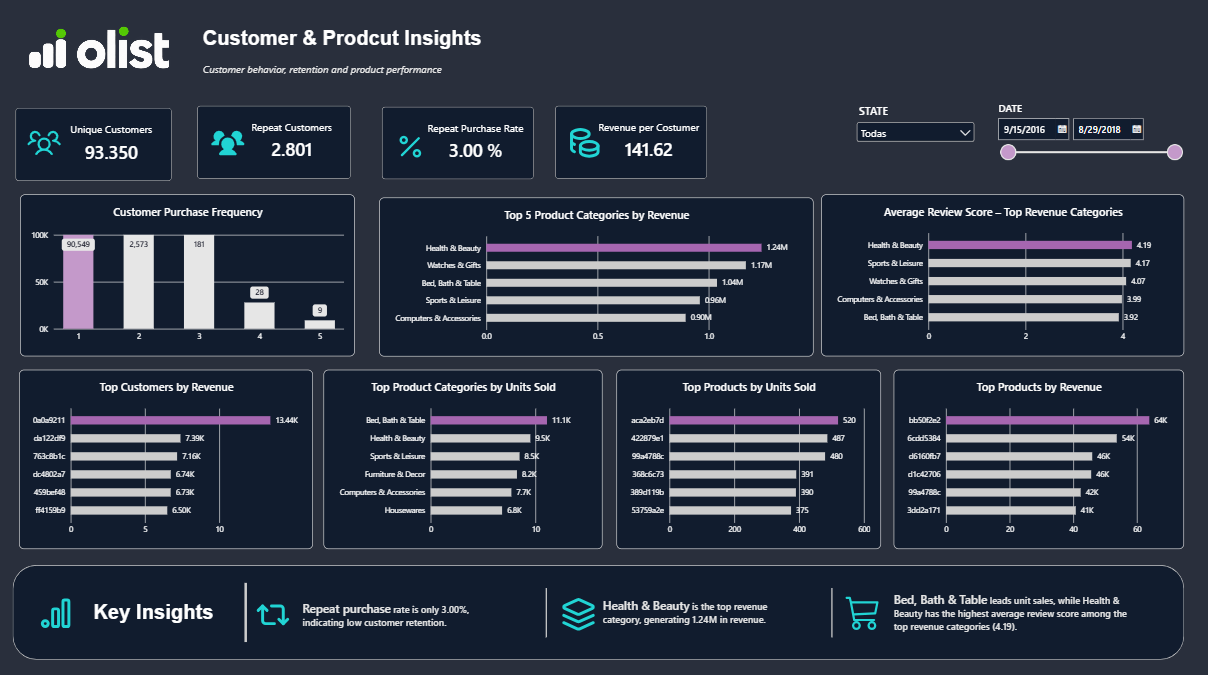

Layout of this report page (visuals, bound fields, positions):
{"tool":"powerbi","page":{"name":"Products Insights ","canvas":[1920,1080],"ordinal":1},"visuals":[{"type":"cardVisual","fields":{"Data":["vw_powerbi_orders.Repeat Customers Display"]},"box":[311,166.8,253.1,125.8],"z":0,"group":"g2"},{"type":"cardVisual","fields":{"Data":["vw_powerbi_orders.Average Revenue per Customer"]},"box":[880.8,166.8,250.2,125.8],"z":0,"group":"g4"},{"type":"cardVisual","fields":{"Data":["vw_powerbi_orders.Repeat Purchase Rate"]},"box":[605.2,168.5,250.2,124.4],"z":0,"group":"g3"},{"type":"cardVisual","fields":{"Data":["vw_powerbi_orders.Unique Customers Display"]},"box":[24,169.7,257.3,125.8],"z":0,"group":"g1"},{"type":"shape","box":[23.5,900.7,1859.3,150.4],"z":0},{"type":"cardVisual","fields":{"Data":["vw_powerbi_orders.Total Orders Display"]},"box":[1005.2,330.8,175.4,126.9],"z":1000},{"type":"textbox","box":[325.2,46.7,680,140],"z":2000},{"type":"slicer","fields":{"Values":["vw_powerbi_orders.order_purchase_timestamp"]},"box":[1579.2,162.6,304,148.5],"z":3000},{"type":"slicer","fields":{"Values":["vw_powerbi_orders.customer_state"]},"box":[1358.7,166.8,196,150.5],"z":4000},{"type":"image","box":[9.9,0,301.1,161.2],"z":5000},{"type":"group","id":"g1","title":"Grupo 1","box":[24,169.7,257.3,125.8],"z":6000},{"type":"group","id":"g2","title":"Grupo 1","box":[311,166.8,253.1,125.8],"z":7000},{"type":"group","id":"g3","title":"Grupo 1","box":[605.2,168.5,250.2,124.4],"z":8000},{"type":"group","id":"g4","title":"Grupo 1","box":[880.8,166.8,250.2,125.8],"z":9000},{"type":"textbox","box":[660.3,35.3,189.5,104.6],"z":10000},{"type":"columnChart","title":"Customer Purchase Frequency","fields":{"Category":["vw_powerbi_orders.Orders per Customer"],"Y":["vw_powerbi_orders.Customer Count"]},"box":[34.5,311.7,531,256.9],"z":11000},{"type":"barChart","title":"Top 5 Product Categories by Revenue","fields":{"Category":["vw_powerbi_products.Product Category Display"],"Y":["vw_powerbi_orders.Category Revenue"]},"box":[604.6,316.4,689.2,252.2],"z":12000},{"type":"barChart","title":"Average Review Score – Top Revenue Categories","fields":{"Category":["vw_powerbi_products.Product Category Display"],"Y":["Avg(vw_powerbi_products.review_score)"]},"box":[1306.4,311.7,576.4,256.9],"z":13000},{"type":"barChart","title":"Top Customers by Revenue","fields":{"Category":["vw_powerbi_orders.Customer Short ID"],"Y":["vw_powerbi_orders.Customer Revenue M"]},"box":[32.9,590.5,466.8,285.1],"z":14000},{"type":"barChart","title":"Top Product Categories by Units Sold","fields":{"Category":["vw_powerbi_products.Product Category Display"],"Y":["vw_powerbi_orders.Product Revenue K"]},"box":[516.9,590.5,443.3,285.1],"z":15000},{"type":"barChart","title":"Top Products by Units Sold","fields":{"Category":["vw_powerbi_products.Product Short ID"],"Y":["CountNonNull(vw_powerbi_products.order_item_id)"]},"box":[982.1,590.5,419.8,285.1],"z":16000},{"type":"image","box":[1345.5,938.3,56.5,73.8],"z":17000,"group":"g5"},{"type":"image","box":[892.8,941.4,56.5,73.8],"z":17000},{"type":"barChart","title":"Top Products by Revenue","fields":{"Category":["vw_powerbi_products.Product Short ID"],"Y":["vw_powerbi_orders.Product Revenue K"]},"box":[1422.3,590.5,460.5,285.1],"z":18000},{"type":"image","box":[903.8,192.7,56.6,72.8],"z":19000},{"type":"image","box":[45.4,191.1,56.6,72.8],"z":20000},{"type":"image","box":[336.8,191.1,56.6,72.8],"z":21000},{"type":"image","box":[631.3,208.3,45.4,54.8],"z":22000},{"type":"textbox","box":[151.9,957.1,224,54.8],"z":23000},{"type":"image","box":[62.7,939.8,56.6,72.8],"z":24000},{"type":"image","box":[408.8,943,56.4,72],"z":25000},{"type":"textbox","box":[484,957.1,271,78.3],"z":26000},{"type":"group","id":"g5","title":"Grupo 1","box":[1345.5,938.3,56.4,73.6],"z":27000},{"type":"shape","box":[350.9,928.9,83,94],"z":28000},{"type":"shape","box":[836.5,936.7,67.3,78.3],"z":29000},{"type":"textbox","box":[960.2,952.4,289.8,87.7],"z":30000},{"type":"shape","box":[1290.7,936.7,67.3,78.3],"z":31000},{"type":"textbox","box":[1422.3,941.4,382.2,87.7],"z":32000}]}

Visuals, with their boxes in screenshot pixels (x1, y1, x2, y2), scaled from the page's 1920x1080 canvas onto the 1208x675 screenshot:
cardVisual - vw_powerbi_orders.Repeat Customers Display: 196:104:355:183
cardVisual - vw_powerbi_orders.Average Revenue per Customer: 554:104:712:183
cardVisual - vw_powerbi_orders.Repeat Purchase Rate: 381:105:538:183
cardVisual - vw_powerbi_orders.Unique Customers Display: 15:106:177:185
shape: 15:563:1185:657
cardVisual - vw_powerbi_orders.Total Orders Display: 632:207:743:286
textbox: 205:29:632:117
slicer - vw_powerbi_orders.order_purchase_timestamp: 994:102:1185:194
slicer - vw_powerbi_orders.customer_state: 855:104:978:198
image: 6:0:196:101
"Grupo 1" group: 15:106:177:185
"Grupo 1" group: 196:104:355:183
"Grupo 1" group: 381:105:538:183
"Grupo 1" group: 554:104:712:183
textbox: 415:22:535:87
"Customer Purchase Frequency" columnChart: 22:195:356:355
"Top 5 Product Categories by Revenue" barChart: 380:198:814:355
"Average Review Score – Top Revenue Categories" barChart: 822:195:1185:355
"Top Customers by Revenue" barChart: 21:369:314:547
"Top Product Categories by Units Sold" barChart: 325:369:604:547
"Top Products by Units Sold" barChart: 618:369:882:547
image: 847:586:882:633
image: 562:588:597:634
"Top Products by Revenue" barChart: 895:369:1185:547
image: 569:120:604:166
image: 29:119:64:165
image: 212:119:248:165
image: 397:130:426:164
textbox: 96:598:237:632
image: 39:587:75:633
image: 257:589:293:634
textbox: 305:598:475:647
"Grupo 1" group: 847:586:882:632
shape: 221:581:273:639
shape: 526:585:569:634
textbox: 604:595:786:650
shape: 812:585:854:634
textbox: 895:588:1135:643
